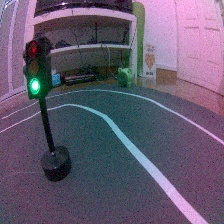green: (19, 36, 74, 184)
